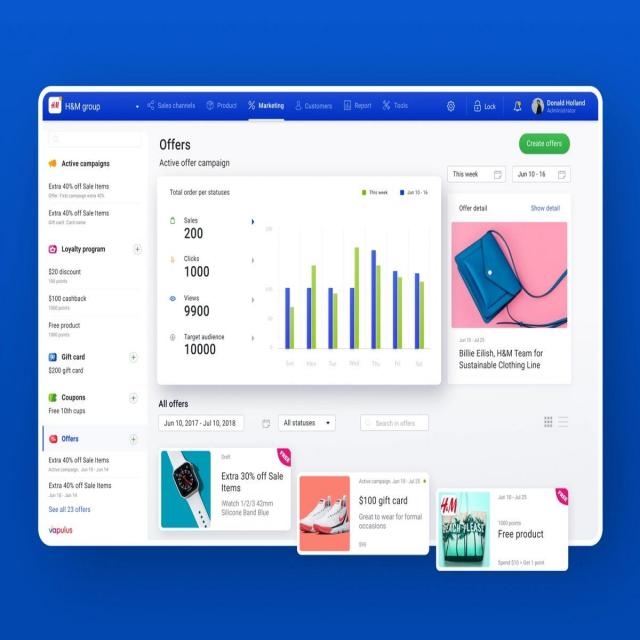button: (519, 133, 570, 155)
input: (361, 414, 429, 432)
select: (279, 414, 336, 430)
